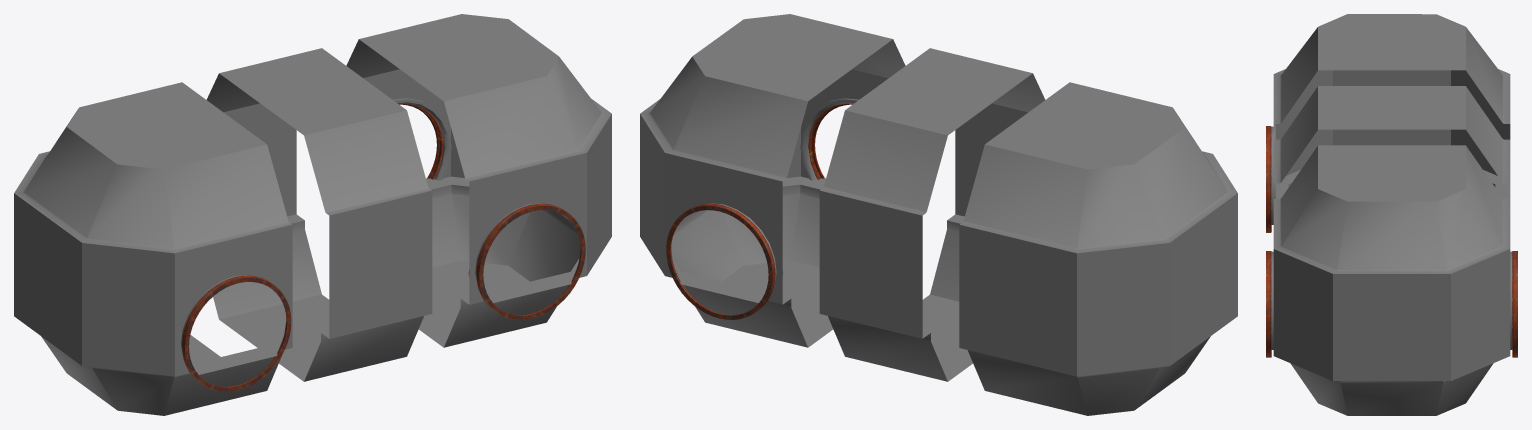
Rendered from tau_receiving_area.dae.
3 renders of one model, left to right at view 1: azimuth 30°, elevation 25°; view 2: azimuth 150°, elevation 25°; view 3: azimuth 270°, elevation 25°, orthographic. The views are drawn at different scales.
Parts seen in each view (by area): view 1: polySurface374, pPipe70, polySurface386; view 2: polySurface374, pPipe70, polySurface386; view 3: polySurface374, pPipe70, polySurface386.
Part boxes in pixels (x1,y1,x2,y2): polySurface374: [14, 14, 611, 415]; pPipe70: [182, 103, 585, 391]; polySurface386: [181, 98, 580, 374]; polySurface374: [640, 14, 1237, 415]; pPipe70: [666, 103, 852, 319]; polySurface386: [671, 98, 858, 302]; polySurface374: [1273, 14, 1510, 415]; pPipe70: [1266, 126, 1517, 357]; polySurface386: [1271, 124, 1512, 349].
Size of the model in its own units: 18 by 8 by 8.52.
